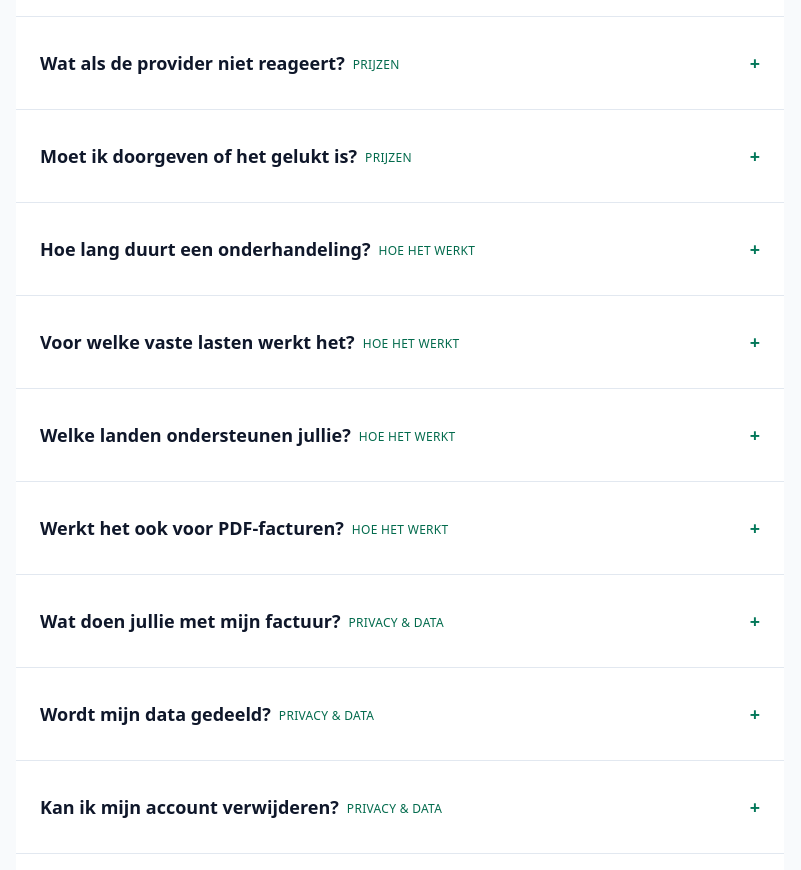
Test case: components/FAQ › toggles open state on click
The image size is (801, 870).
(page scrolled)
Click the button "Welke landen ondersteunen jullie?Hoe het werkt +" at [400, 435], box [40, 413, 760, 457]
(page scrolled)
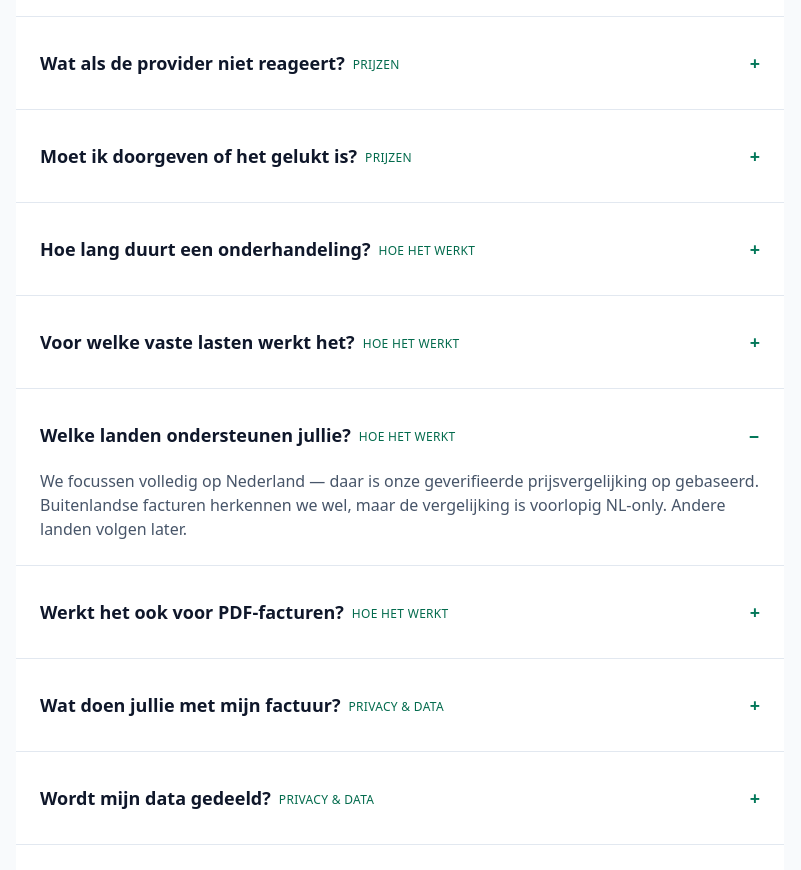
Expected: the button "Welke landen ondersteunen jullie?Hoe het werkt −" is expanded, [40, 413, 760, 457]
